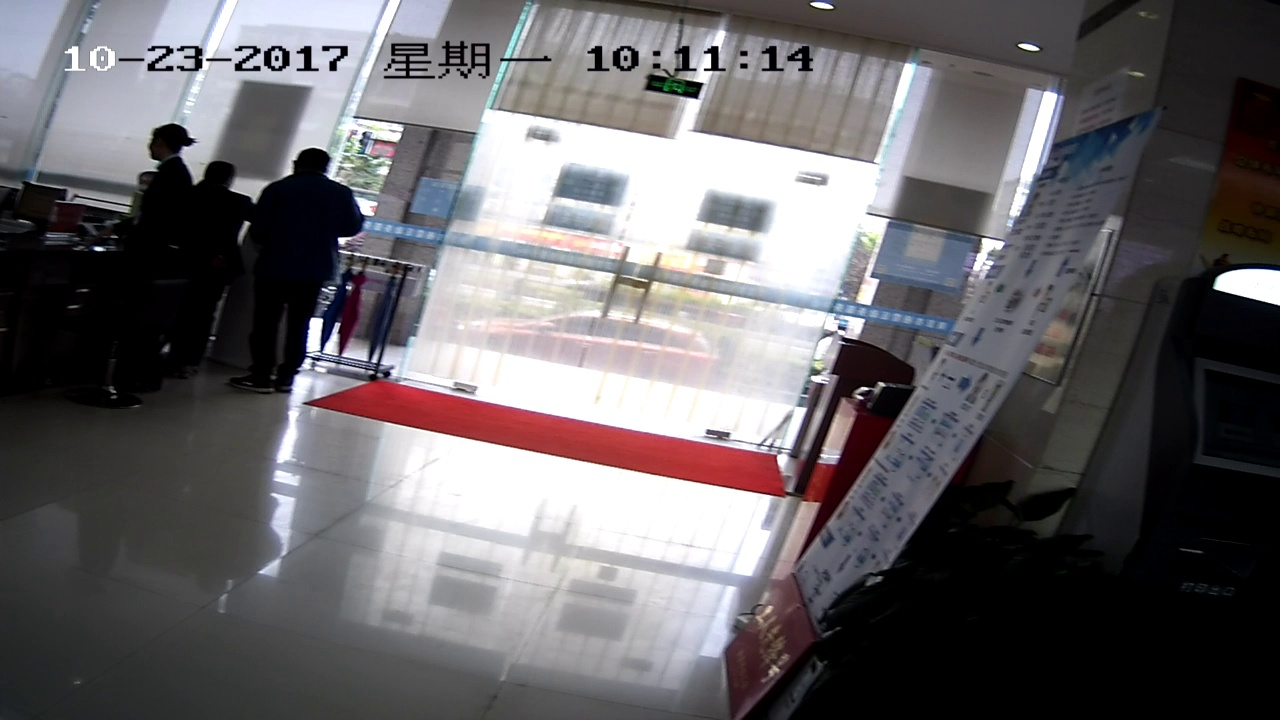person: (105, 126, 192, 404), (263, 131, 347, 397), (197, 156, 250, 383)
